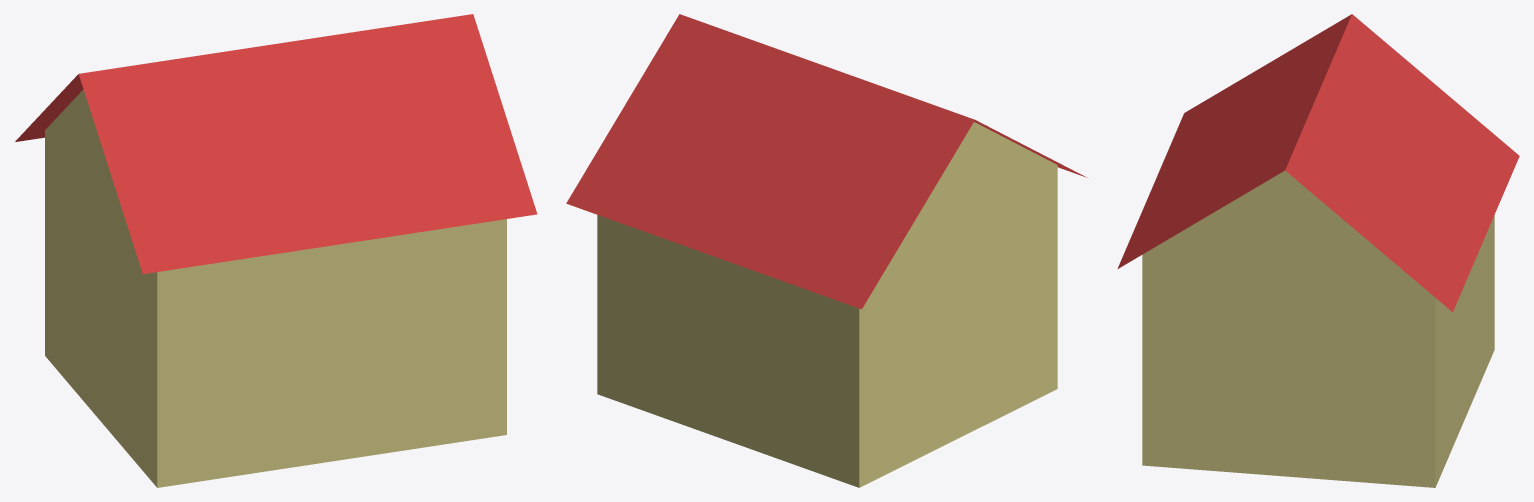
3 views of the same model, side by side, from view 1: azimuth 30°, elevation 25°; view 2: azimuth 150°, elevation 25°; view 3: azimuth 270°, elevation 25° (orthographic). The views are drawn at different scales.
Size of the model in its own units: 15.05 by 14.06 by 12.15.
